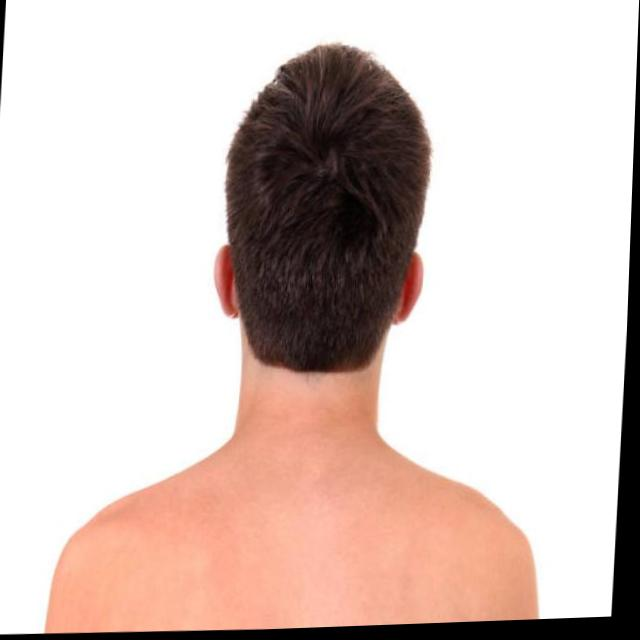no helmet: (209, 30, 439, 414)
